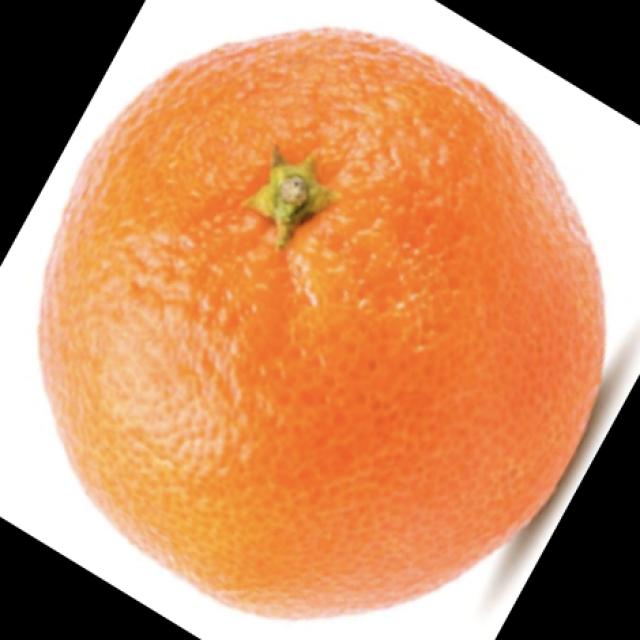fresh: (39, 24, 618, 618)
